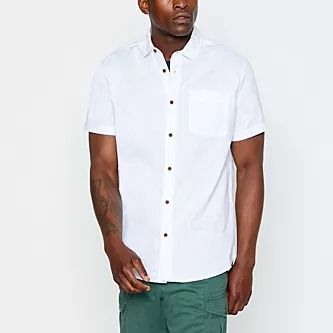S_shirt: (87, 34, 269, 282)
